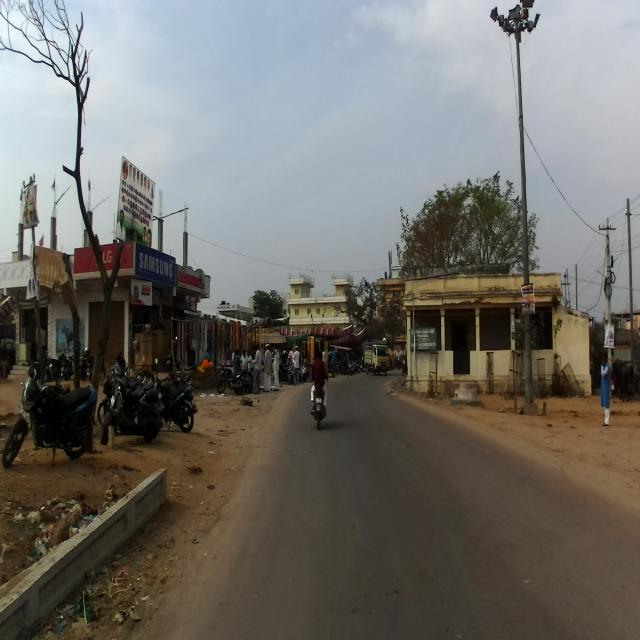motorcycle ahead at: (9, 368, 92, 482)
